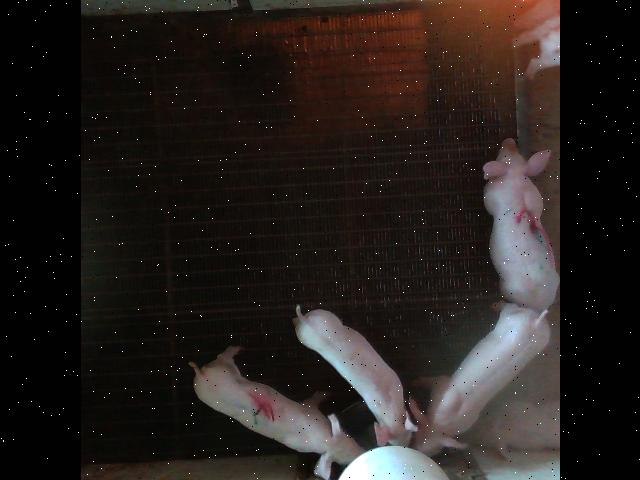pig-3: (482, 139, 558, 311)
pig-4: (189, 346, 362, 480)
